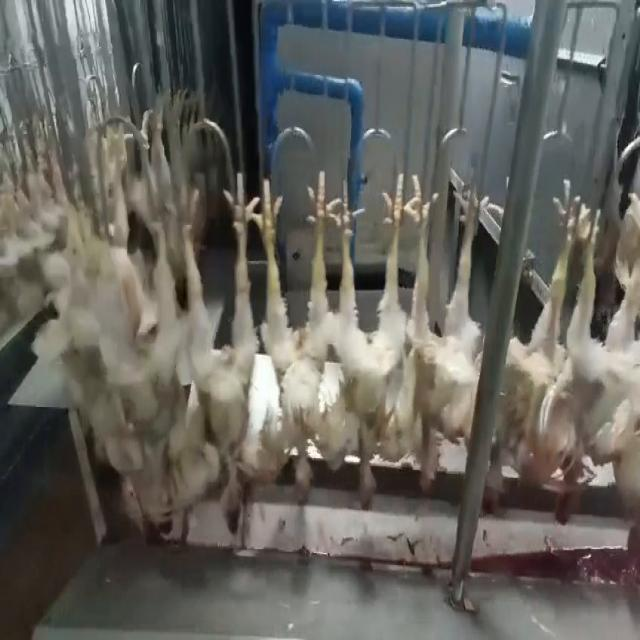chicken: (159, 161, 262, 537), (485, 181, 589, 513), (396, 176, 504, 493), (552, 178, 639, 527), (324, 166, 411, 511), (251, 172, 329, 510), (114, 169, 158, 498)
